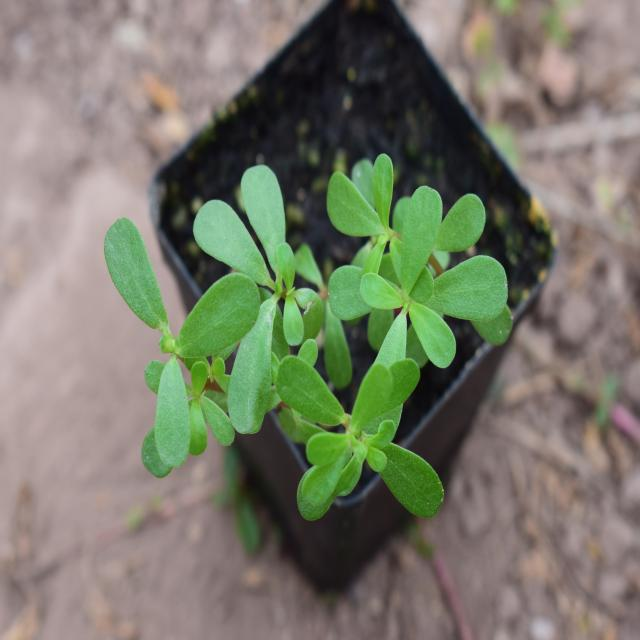purslane: (101, 128, 522, 542)
